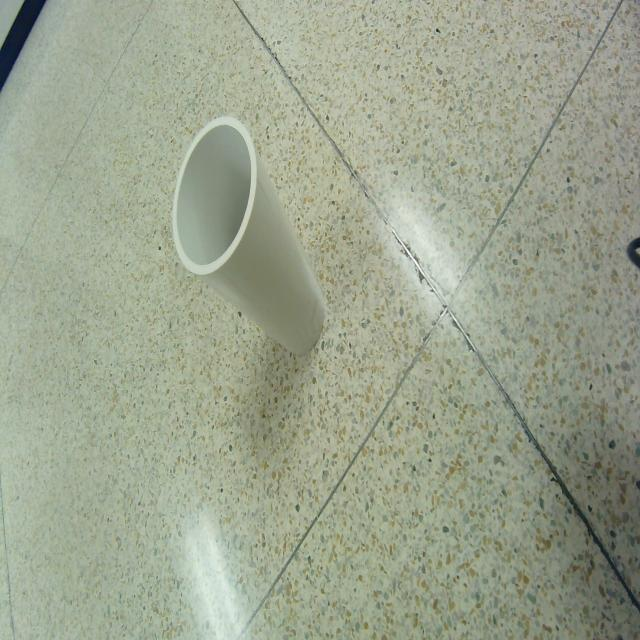coral: (172, 116, 326, 355)
